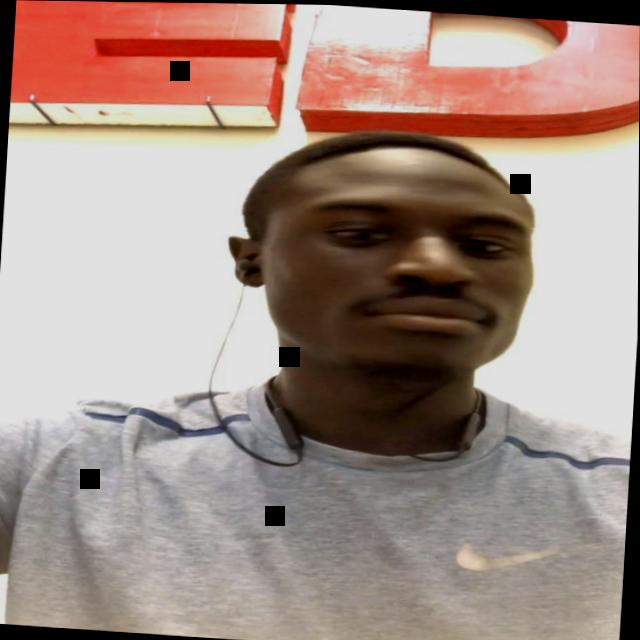NO-Mask: (257, 145, 546, 389)
